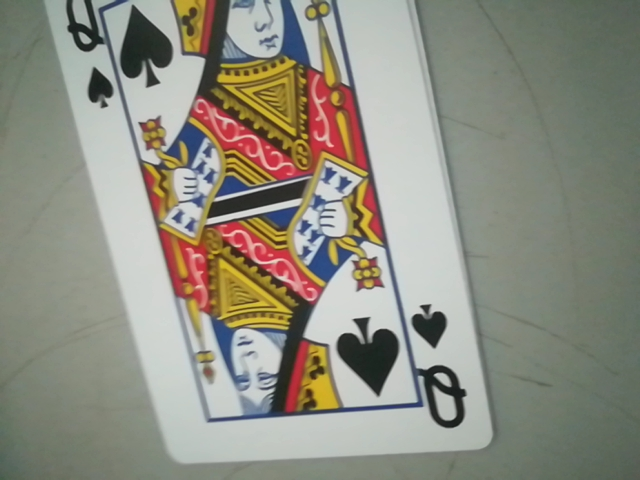ht q: (407, 296, 470, 434)
